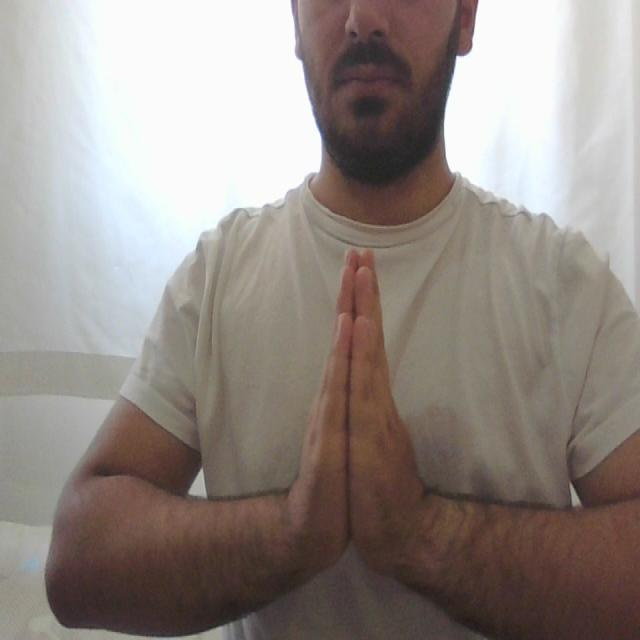Ozur-Dilemek: (282, 241, 432, 598)
